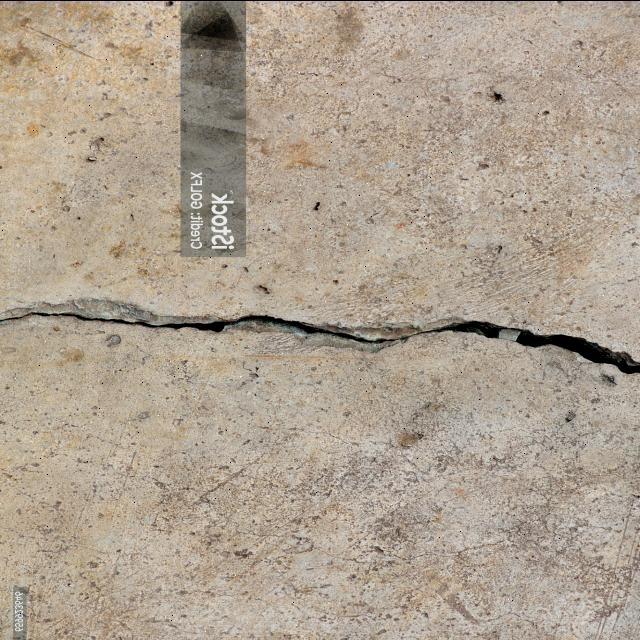crack: (0, 295, 639, 375)
